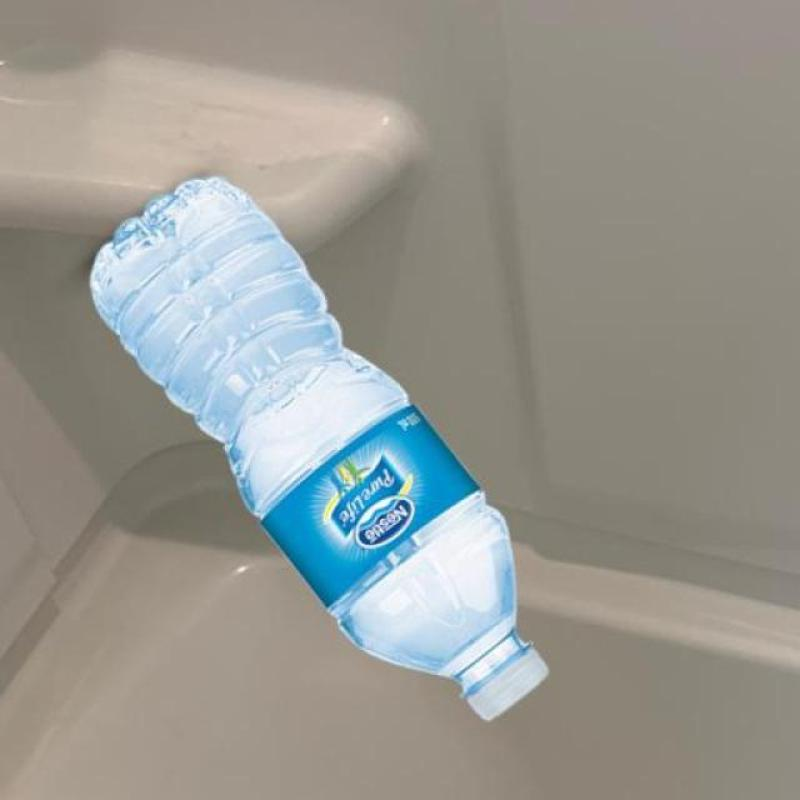botella: (85, 177, 553, 722)
